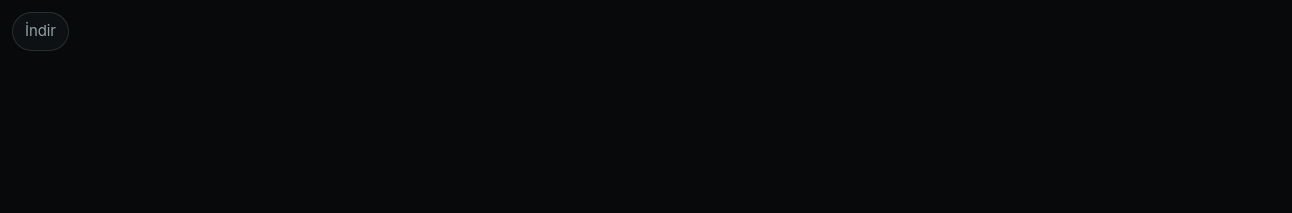
Scenario: DownloadChip — annotasyonsuz indirme (B02) › alan çözümü yoksa "Alan çözümlü" seçeneği devre dışı
This screenshot has width=1292, height=213.
Step 1. Click the button "İndir" → [40, 31], box top-left (12, 12), bottom-right (69, 51)
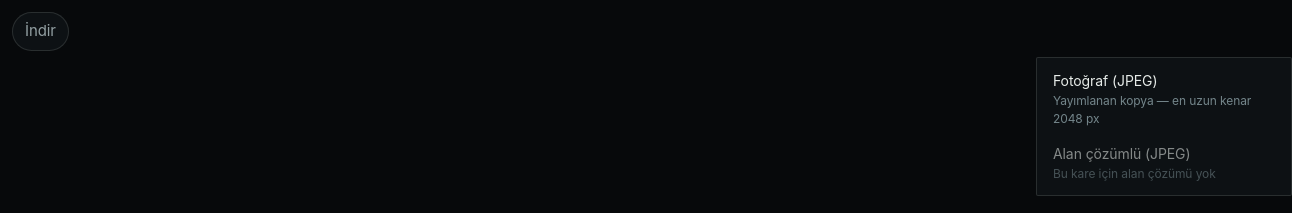
expect the menu item "Alan çözümlü (JPEG) Bu kare için alan çözümü yok" is disabled: met, box top-left (1041, 135), bottom-right (1287, 191)
